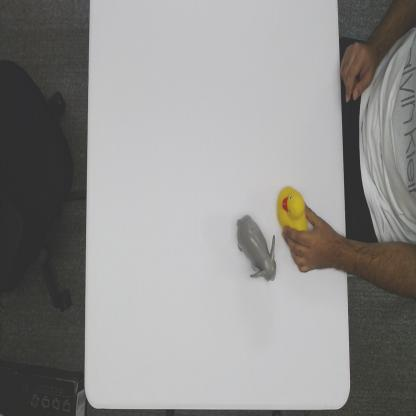Arm: (336, 232, 350, 271)
Duck: (277, 182, 309, 233)
Elephant: (235, 213, 278, 284)
Hand: (282, 206, 335, 274)
